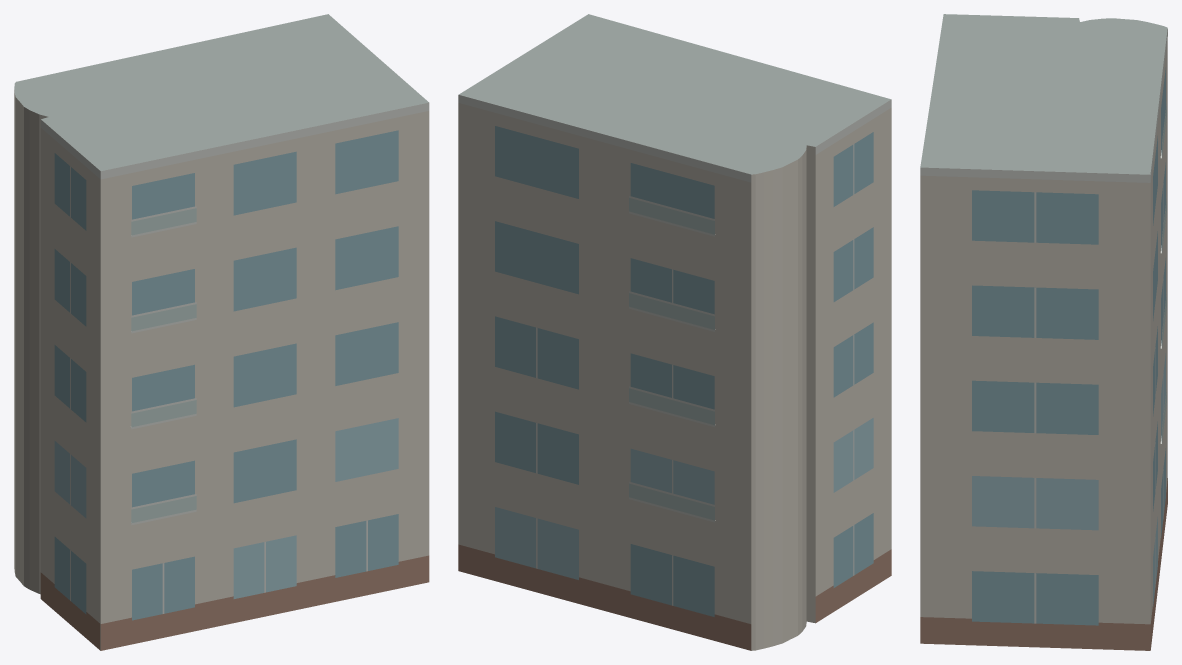
The model's file is survey-upis-32471521.glb.
The picture shows the model from 3 angles, left to right: view 1: azimuth 30°, elevation 25°; view 2: azimuth 150°, elevation 25°; view 3: azimuth 270°, elevation 25°; orthographic projection.
Parts seen in each view (by area): view 1: survey-upis-32471521.tmp; view 2: survey-upis-32471521.tmp; view 3: survey-upis-32471521.tmp.
Part boxes in pixels (x1=…): survey-upis-32471521.tmp: x1=14, y1=14, x2=429, y2=650; survey-upis-32471521.tmp: x1=458, y1=14, x2=891, y2=650; survey-upis-32471521.tmp: x1=920, y1=14, x2=1167, y2=650.
Bounding box in the file's own units: 10.37 × 14.3 × 6.75.
